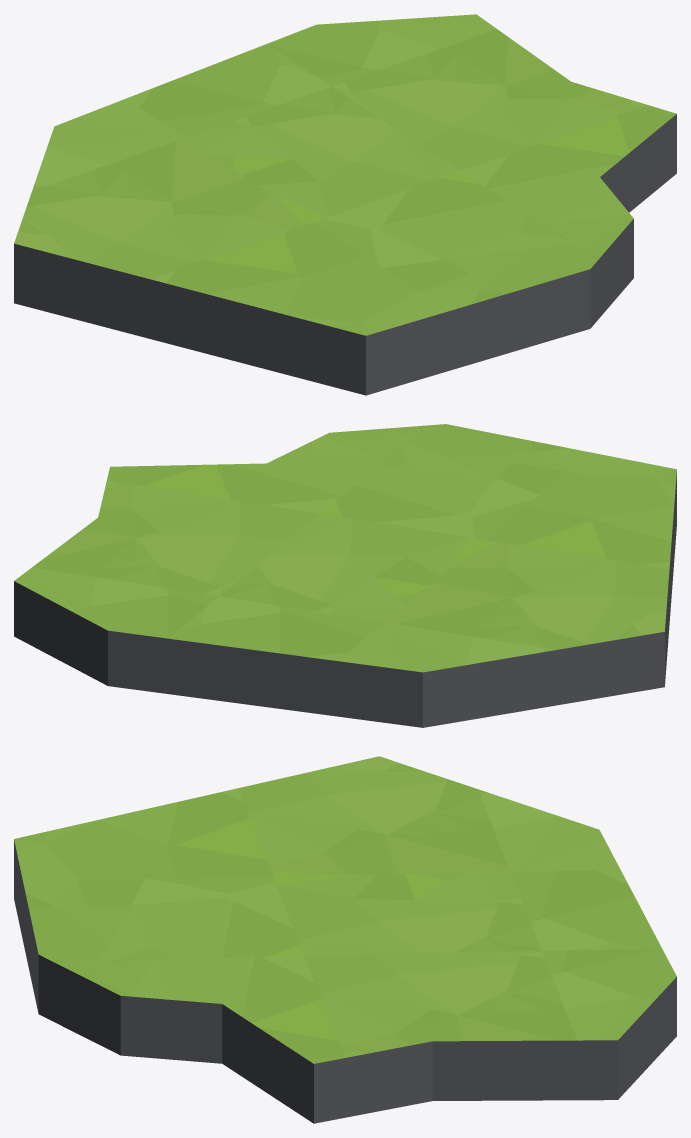
The picture shows the model from 3 angles, top to bottom: view 1: azimuth 30°, elevation 25°; view 2: azimuth 150°, elevation 25°; view 3: azimuth 270°, elevation 25°; orthographic projection. The views are drawn at different scales.
Visible parts, largest first — view 1: SF_01; view 2: SF_01; view 3: SF_01.
Boxes of the visible parts, bbox=[...] form: SF_01: bbox=[14, 14, 676, 395]; SF_01: bbox=[14, 424, 676, 727]; SF_01: bbox=[14, 756, 676, 1123].
Size of the model in its own units: 11.04 by 1 by 10.05.
